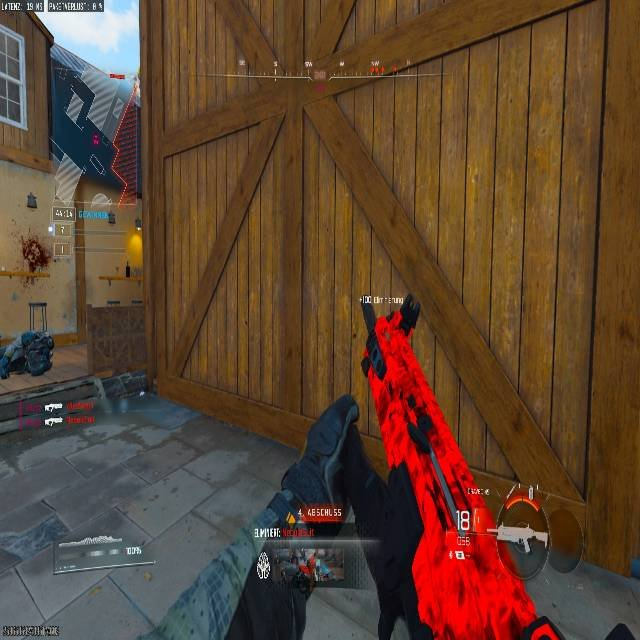head: (24, 334, 54, 376)
player: (22, 237, 49, 284)
